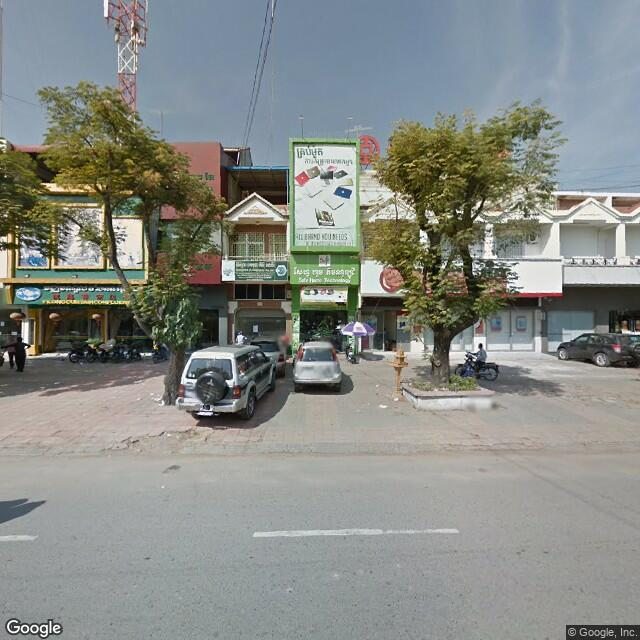litter: (148, 394, 167, 406), (374, 398, 388, 413), (393, 392, 401, 405)
